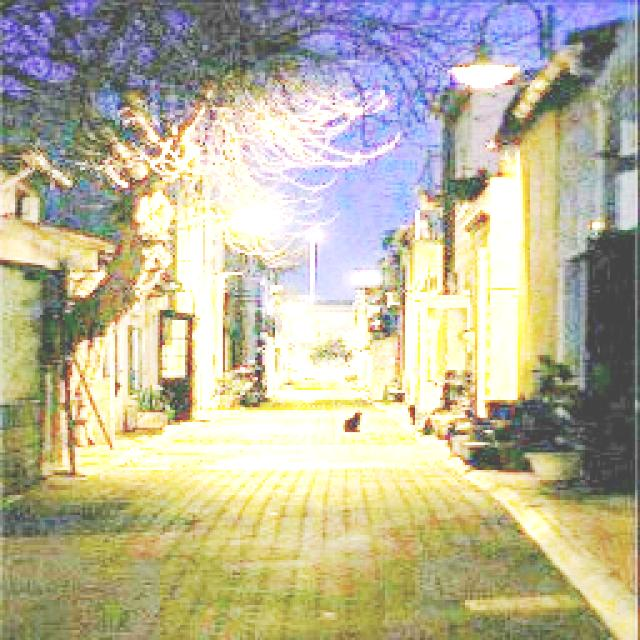cat: (342, 410, 367, 436)
